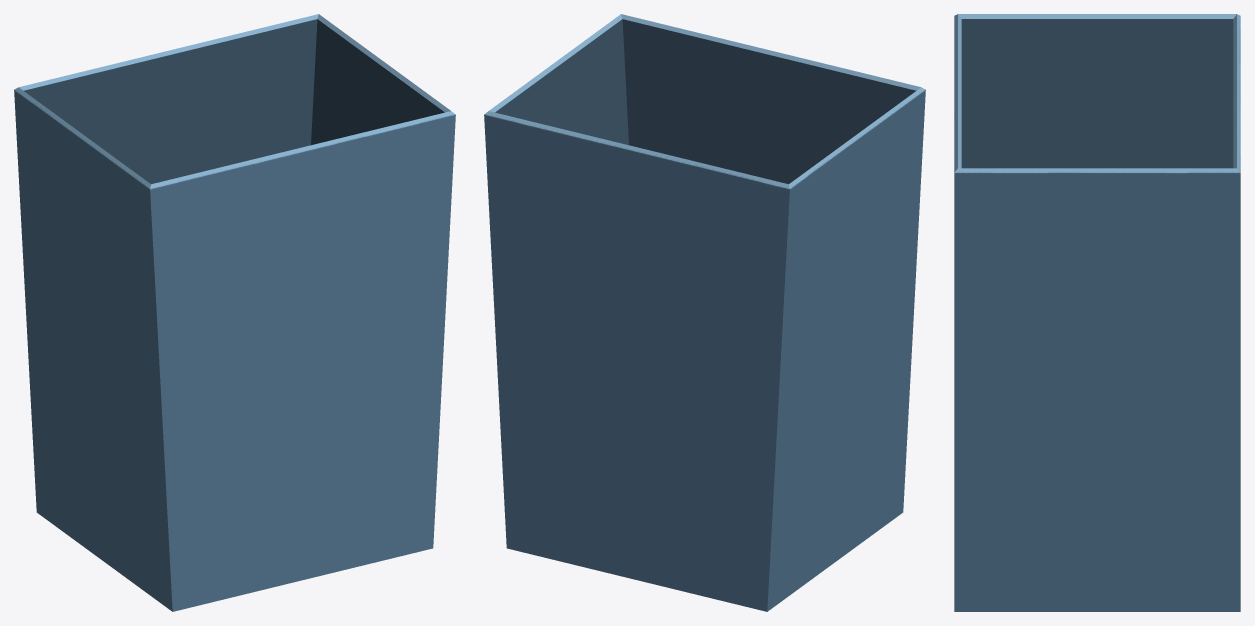
Rendered from Trash_Bin_Blue.fbx.
3 views of the same model, side by side, from view 1: azimuth 30°, elevation 25°; view 2: azimuth 150°, elevation 25°; view 3: azimuth 270°, elevation 25° (orthographic). The views are drawn at different scales.
Visible parts, largest first — view 1: Cube.002; view 2: Cube.002; view 3: Cube.002.
Boxes of the visible parts, x1,y1,x2,y2 form: Cube.002: (14, 14, 455, 611); Cube.002: (484, 14, 925, 611); Cube.002: (954, 14, 1240, 611).
Size of the model in its own units: 25.97 by 35 by 20.
